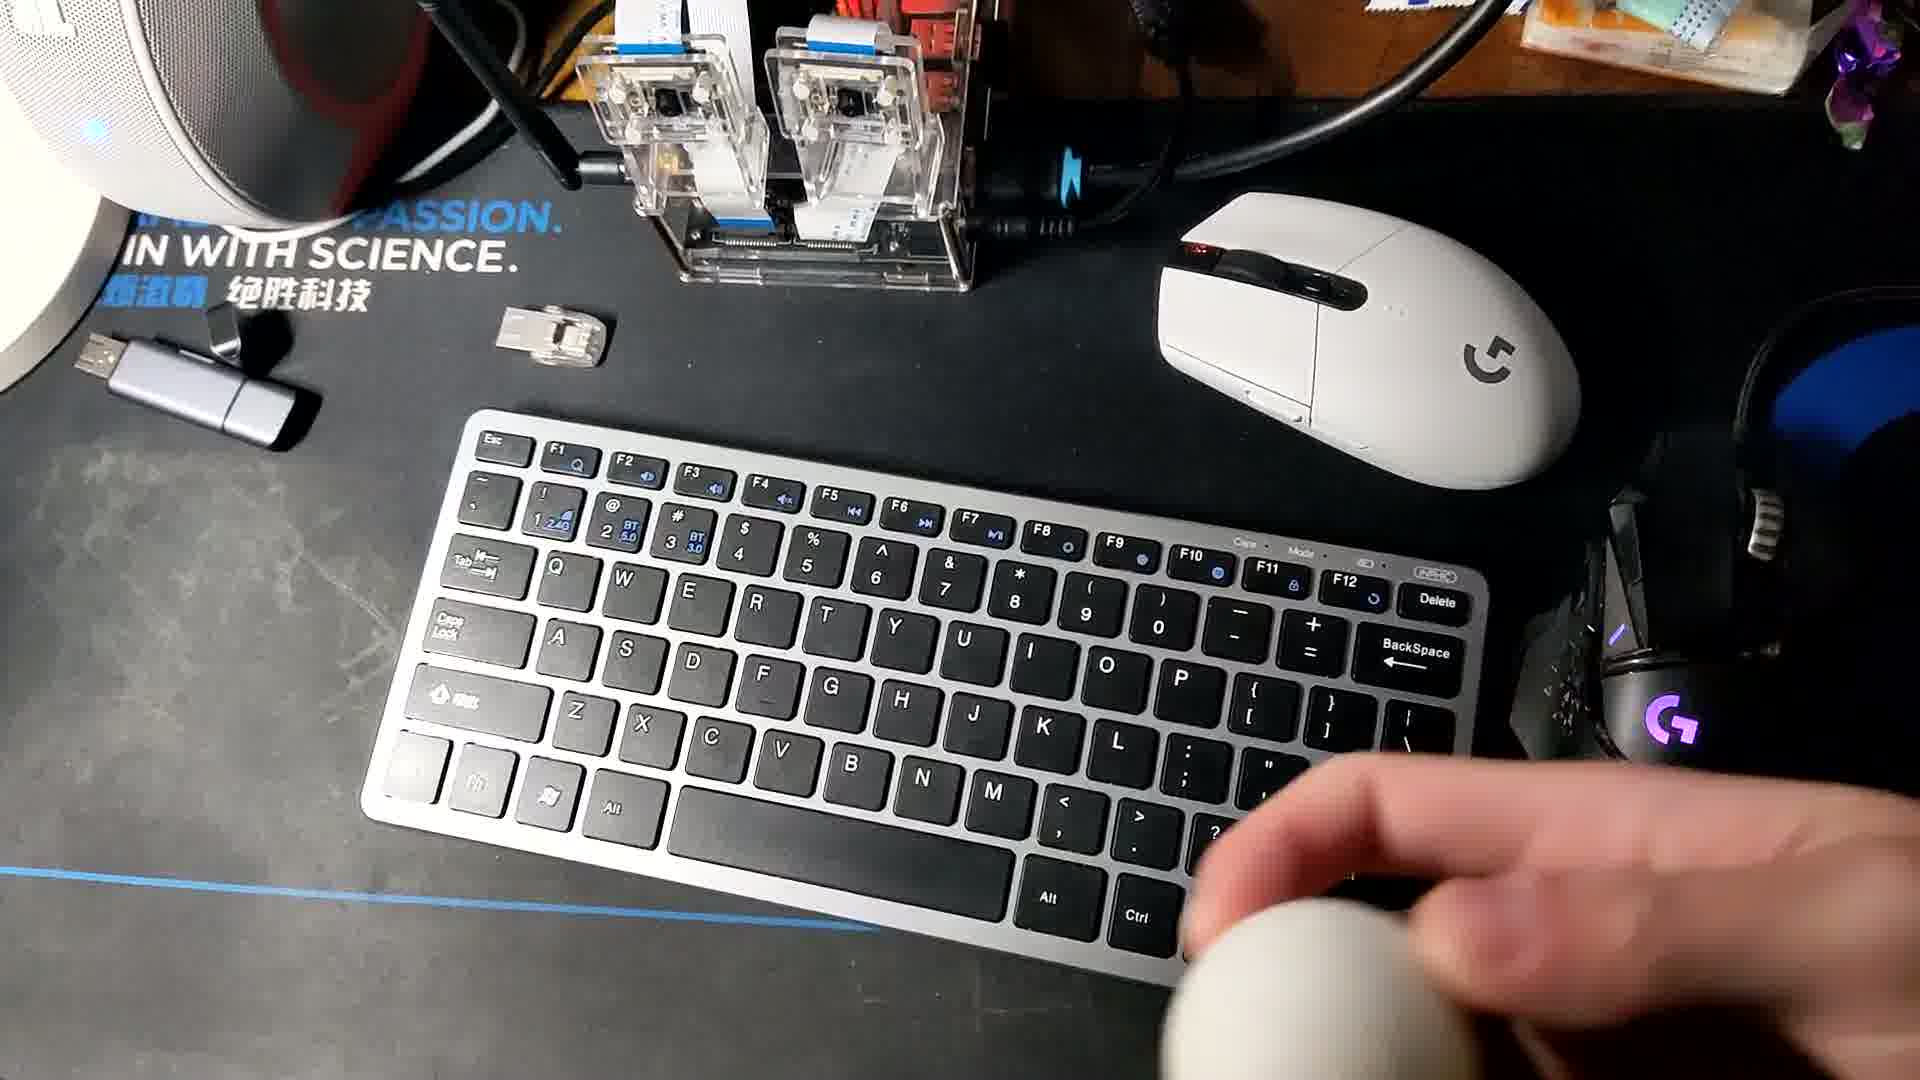Ball: (1160, 899, 1476, 1080)
